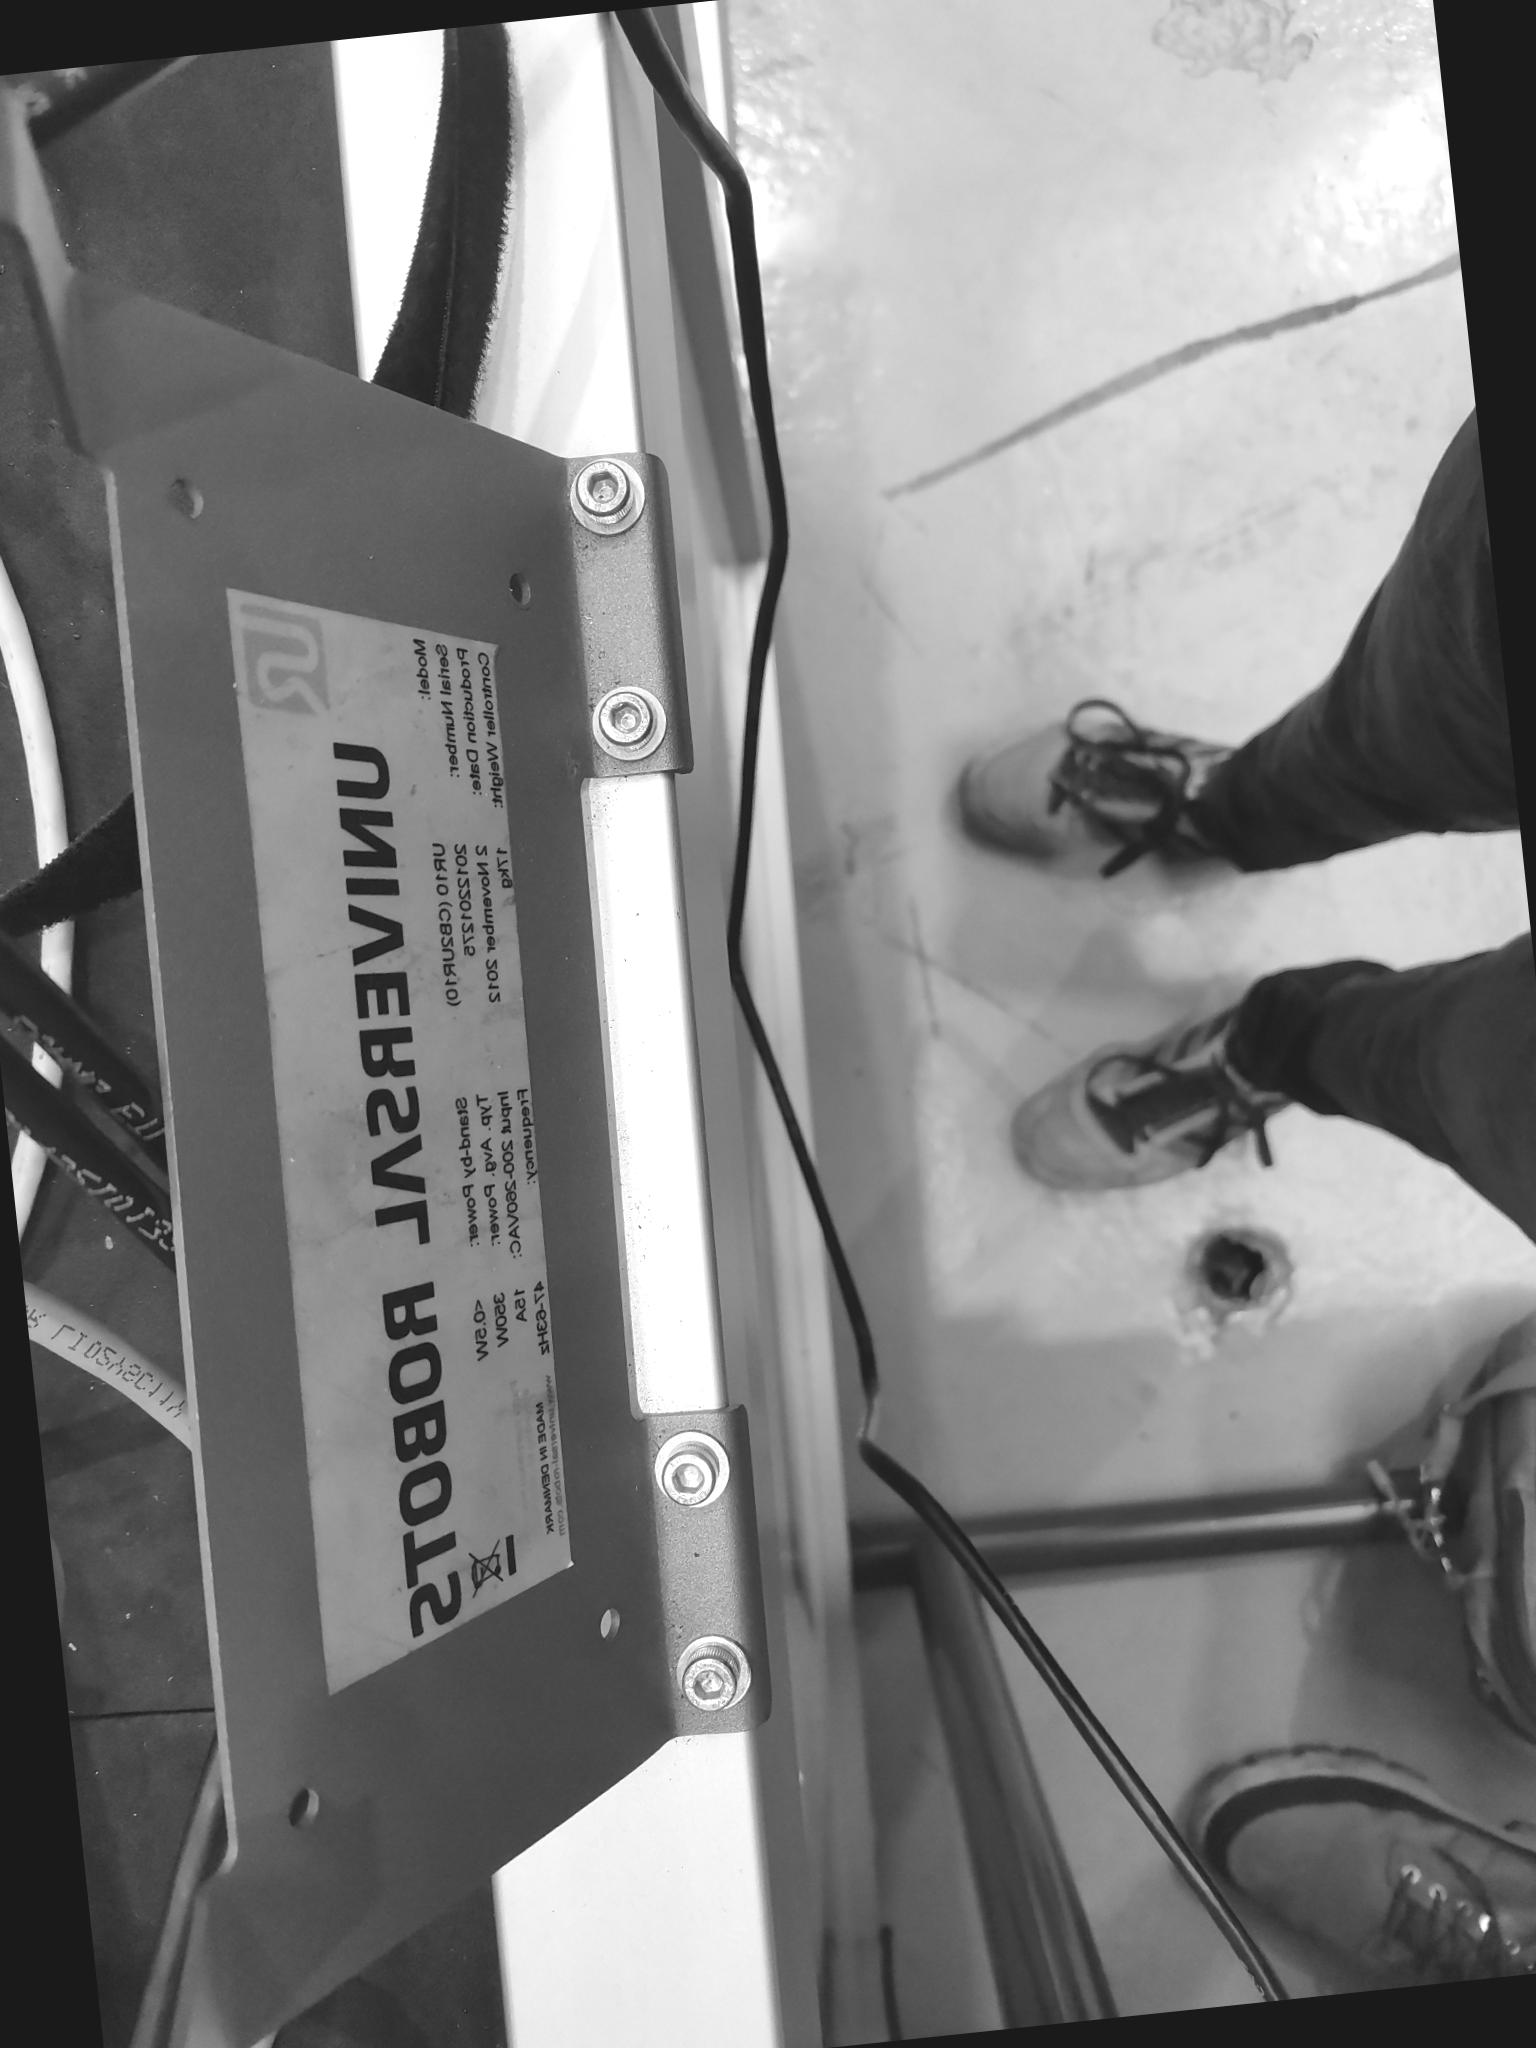screw: (581, 681, 676, 768), (665, 1634, 760, 1717), (647, 1427, 736, 1514), (565, 456, 642, 539)
